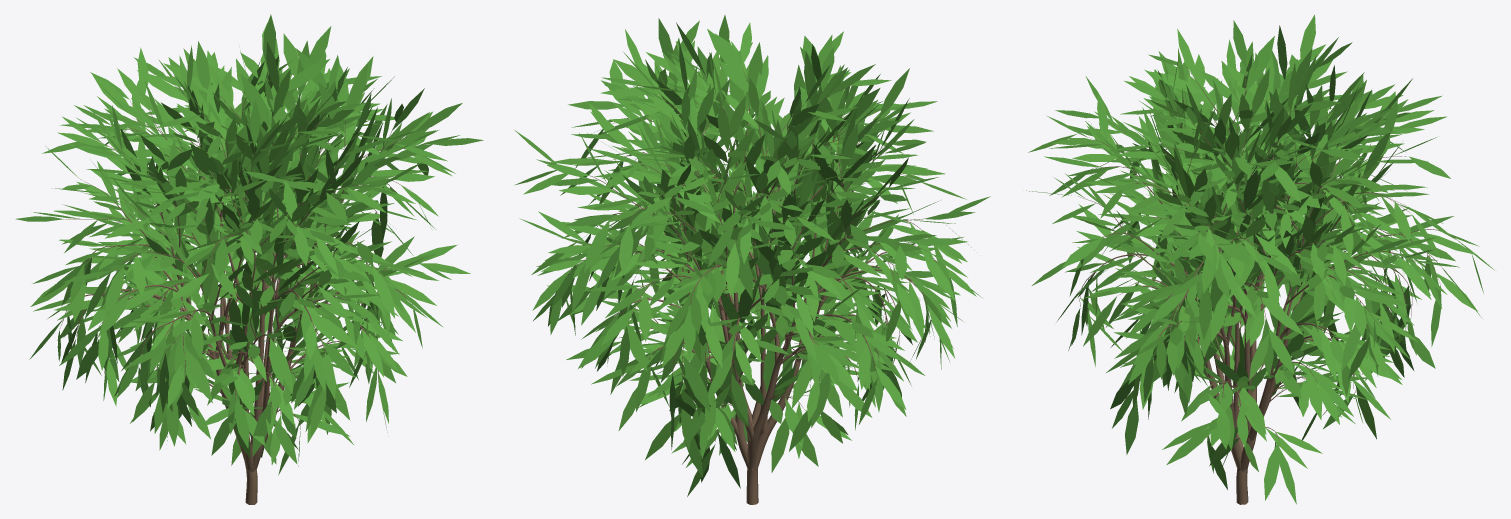
The model's file is plant_1.glb.
The picture shows the model from 3 angles, left to right: view 1: azimuth 30°, elevation 25°; view 2: azimuth 150°, elevation 25°; view 3: azimuth 270°, elevation 25°; orthographic projection. The views are drawn at different scales.
Parts seen in each view (by area): view 1: leaves.002, tree.001; view 2: leaves.002, tree.001; view 3: leaves.002, tree.001.
Part boxes in pixels (<box>): leaves.002: <box>15,14,483,475</box>; tree.001: <box>60,71,426,504</box>; leaves.002: <box>514,15,990,496</box>; tree.001: <box>567,65,937,504</box>; leaves.002: <box>1026,14,1494,504</box>; tree.001: <box>1078,68,1462,504</box>.
Size of the model in its own units: 7.98 by 8.67 by 8.08.
